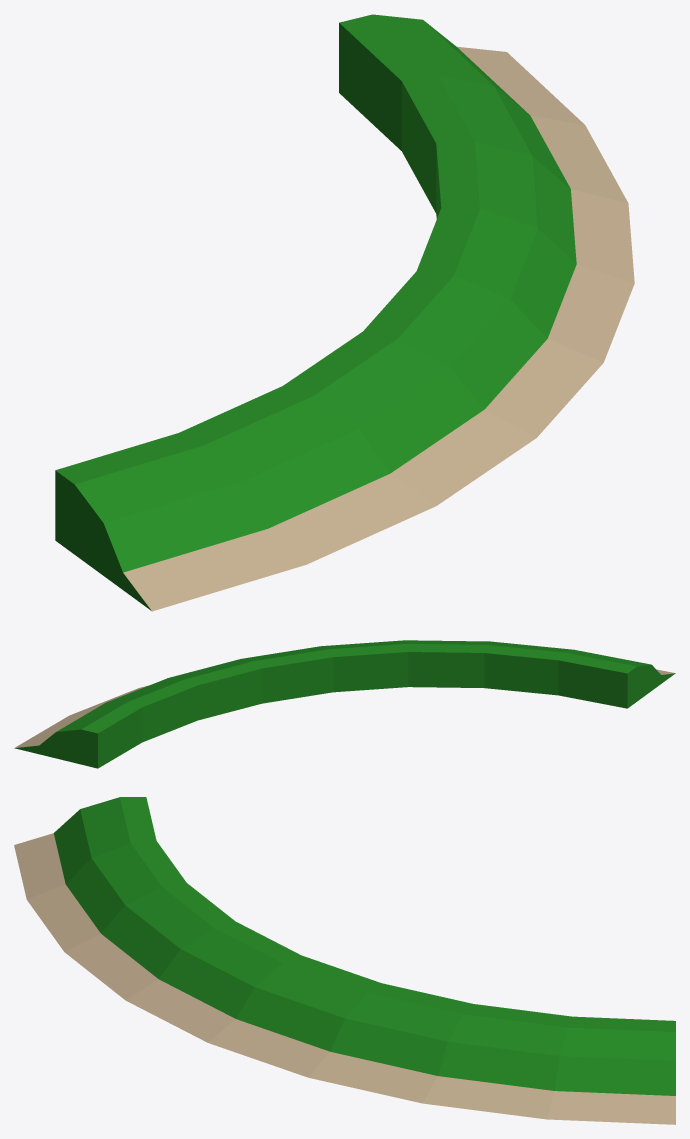
Rendered from path_edge_corner_inner_bb_x2.obj.
3 renders of one model, top to bottom at view 1: azimuth 30°, elevation 25°; view 2: azimuth 150°, elevation 25°; view 3: azimuth 270°, elevation 25°, orthographic. The views are drawn at different scales.
Visible parts, largest first — view 1: 2Inner_Circle.006; view 2: 2Inner_Circle.006; view 3: 2Inner_Circle.006.
Part boxes in pixels (x1,y1,x2,y2): 2Inner_Circle.006: (55, 14, 634, 611); 2Inner_Circle.006: (14, 640, 675, 768); 2Inner_Circle.006: (14, 797, 675, 1124).
Size of the model in its own units: 2.5 by 0.2 by 2.5.
